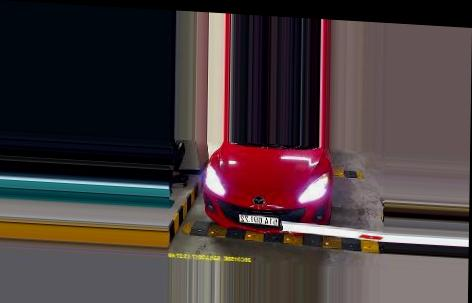License_Plate: (238, 211, 279, 227)
